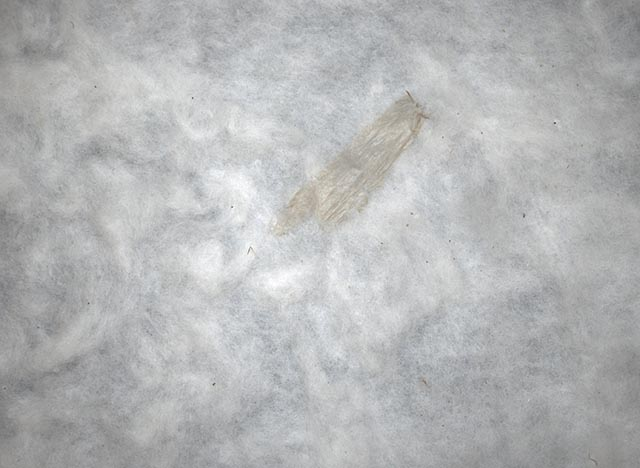plastic film: (269, 90, 432, 238)
